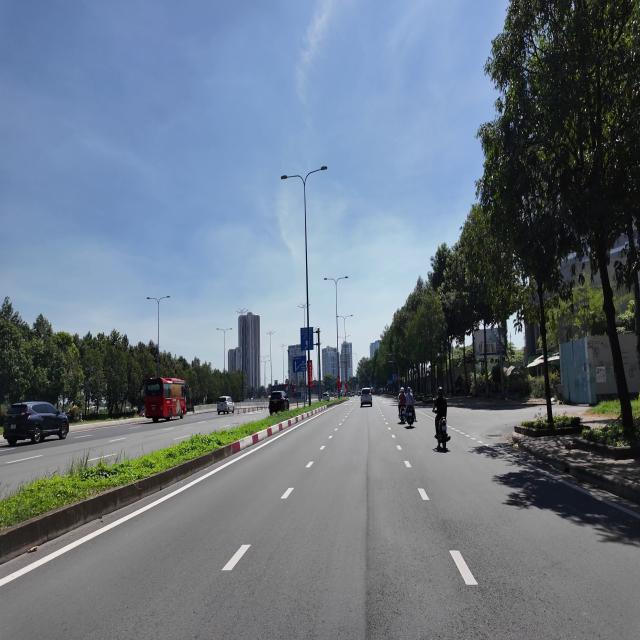car: (3, 402, 68, 445), (269, 391, 289, 414), (217, 396, 234, 414), (361, 388, 372, 407), (323, 392, 330, 400)
motorcycle: (437, 417, 450, 450), (406, 405, 415, 426), (399, 406, 406, 424)
